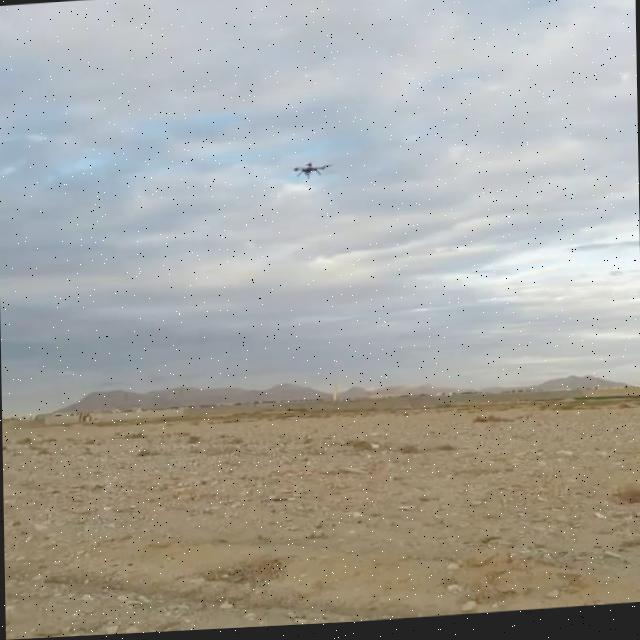drone: (284, 158, 332, 189)
